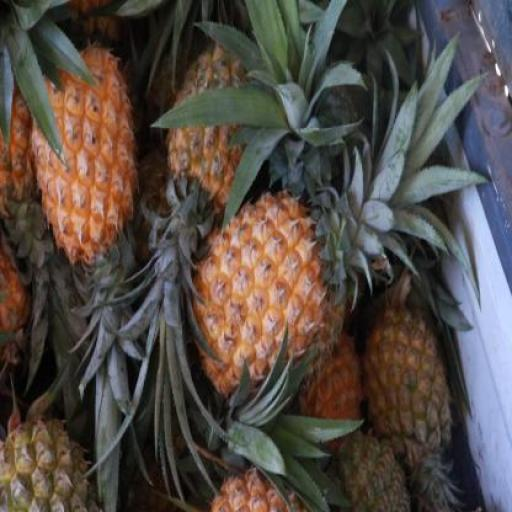------------------------------: (362, 295, 450, 467)
Pineapple - v8 v1: (187, 193, 336, 403), (25, 33, 137, 259)
